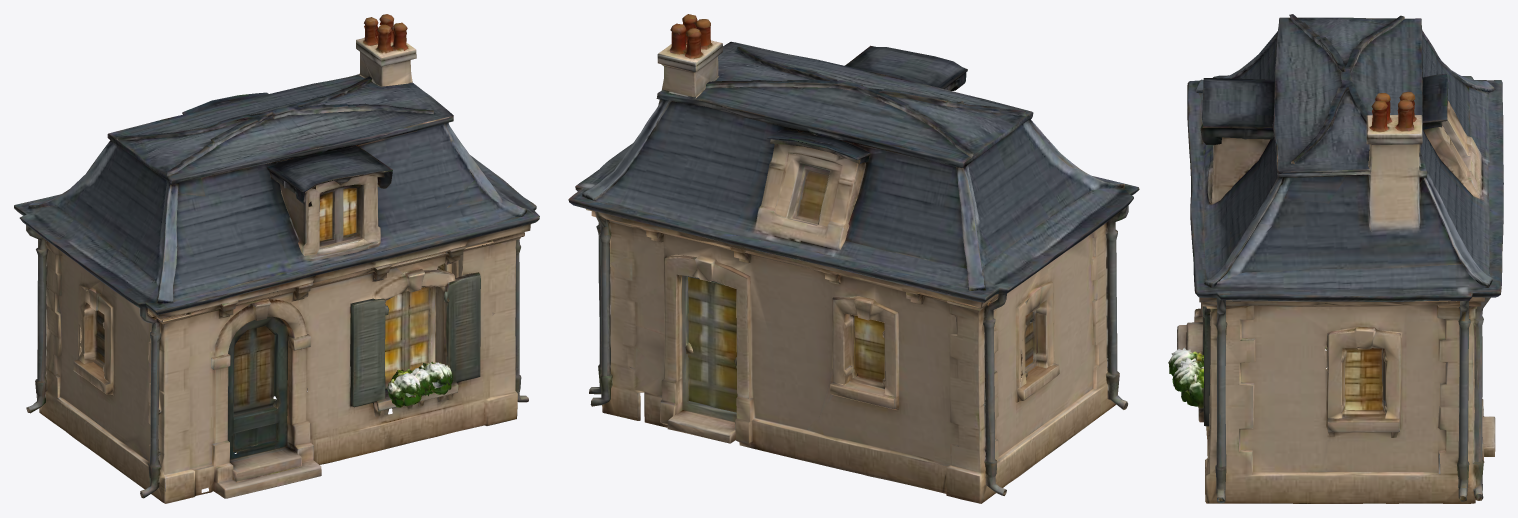
3 views of the same model, side by side, from view 1: azimuth 30°, elevation 25°; view 2: azimuth 150°, elevation 25°; view 3: azimuth 270°, elevation 25° (orthographic). The views are drawn at different scales.
Parts seen in each view (by area): view 1: classic__villa_1__native_mobile; view 2: classic__villa_1__native_mobile; view 3: classic__villa_1__native_mobile.
Boxes of the visible parts, bbox=[...] form: classic__villa_1__native_mobile: bbox=[14, 14, 539, 503]; classic__villa_1__native_mobile: bbox=[568, 14, 1139, 503]; classic__villa_1__native_mobile: bbox=[1168, 14, 1503, 503].
Bounding box in the file's own units: 1 × 0.8165 × 0.6512.
Materials: 1 (1 with a texture image).
